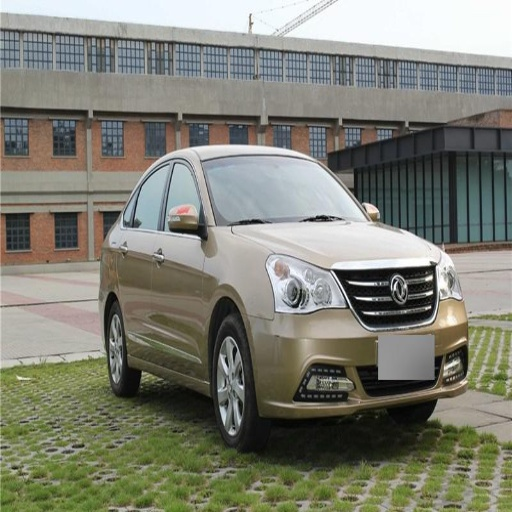front_bumper: (249, 260, 468, 416)
front_right_door: (153, 156, 206, 368)
front_right_light: (265, 253, 343, 312)
